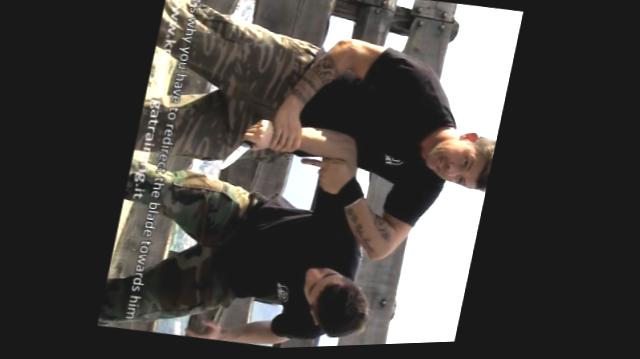pocket-knife: (217, 113, 276, 181)
